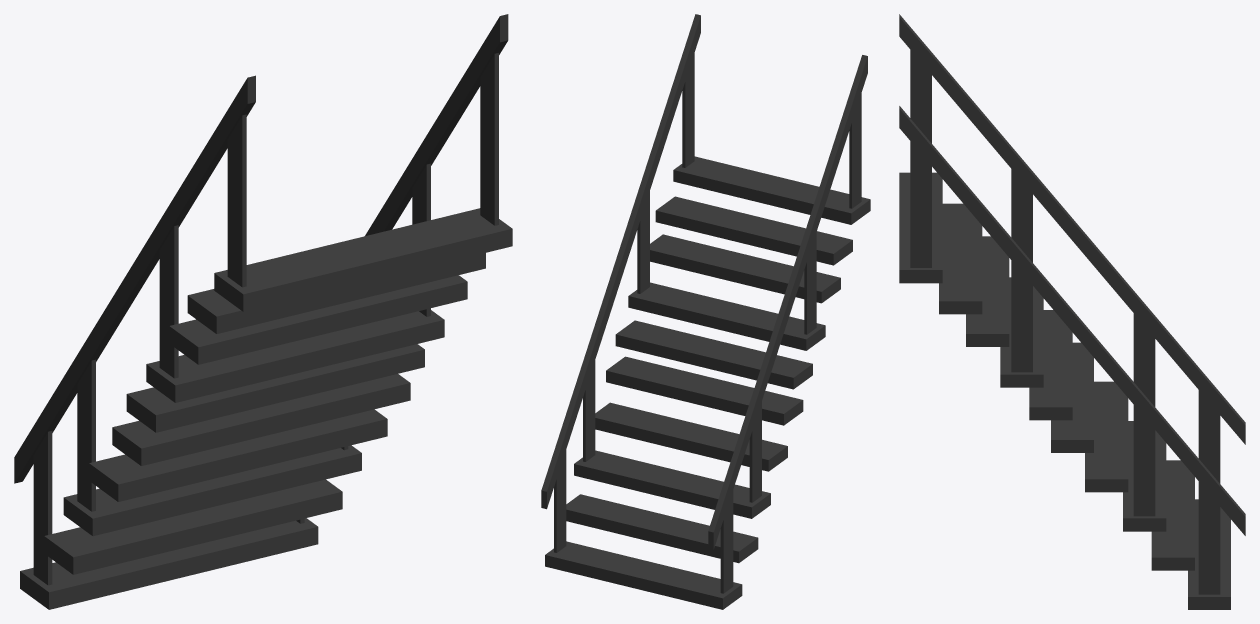
The model's file is StairCase_01_snaps001.fbx.
The picture shows the model from 3 angles, left to right: view 1: azimuth 30°, elevation 25°; view 2: azimuth 150°, elevation 25°; view 3: azimuth 270°, elevation 25°; orthographic projection. The views are drawn at different scales.
Visible parts, largest first — view 1: StairCase_01_snaps001; view 2: StairCase_01_snaps001; view 3: StairCase_01_snaps001.
Part boxes in pixels (bbox=[...]): StairCase_01_snaps001: bbox=[14, 14, 512, 609]; StairCase_01_snaps001: bbox=[541, 14, 870, 609]; StairCase_01_snaps001: bbox=[899, 14, 1245, 609].
Bounding box in the file's own units: 2 × 4.78 × 3.
Materials: 1 (1 with a texture image).
